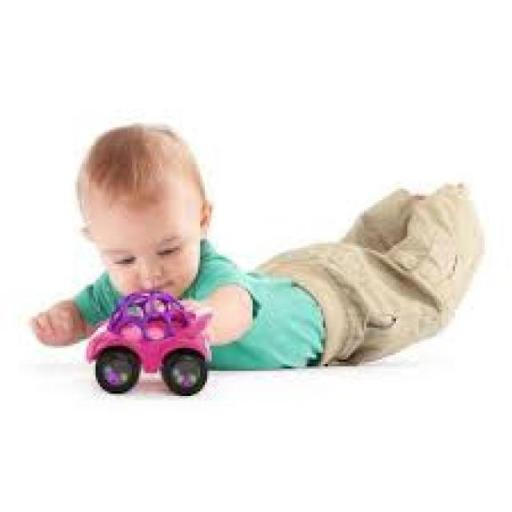baby: (28, 123, 484, 368)
